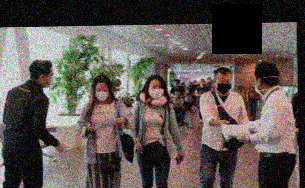with_mask: (216, 77, 233, 95), (147, 83, 164, 100), (94, 86, 110, 103), (42, 70, 54, 89), (253, 76, 263, 98), (206, 77, 211, 83), (194, 81, 198, 86)
without_mask: (199, 78, 205, 86), (173, 92, 179, 99), (173, 81, 179, 87)
